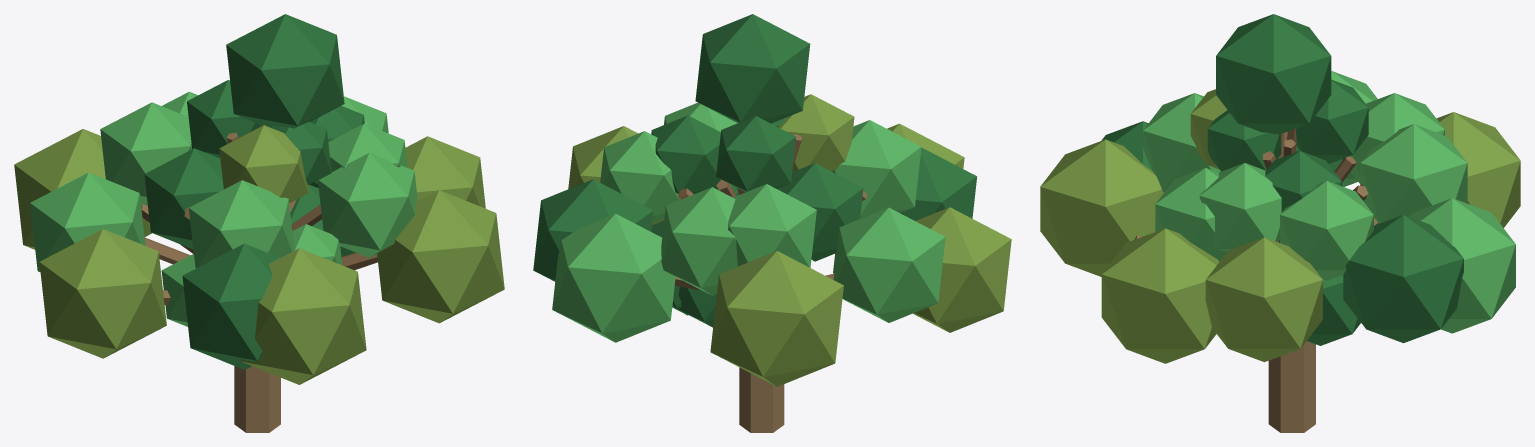
Rendered from Tree_10.glb.
3 views of the same model, side by side, from view 1: azimuth 30°, elevation 25°; view 2: azimuth 150°, elevation 25°; view 3: azimuth 270°, elevation 25° (orthographic). The views are drawn at different scales.
Visible parts, largest first — view 1: T10_Sphere_08, T10_Sphere_05, T10_Sphere_09, T10_Sphere_03, T10_Sphere_13, T10_Sphere_14, T10_Sphere_12, T10_Sphere_18, T10_Sphere_20, T10_Sphere_17, T10_Sphere_07, T10_Sphere_23 (+11 smaller); view 2: T10_Sphere_07, T10_Sphere_11, T10_Sphere_03, T10_Sphere_12, T10_Sphere_08, T10_Sphere_16, T10_Sphere_18, T10_Sphere_20, T10_Sphere_06, T10_Sphere_22, T10_Sphere_15, T10_Sphere_17 (+8 smaller); view 3: T10_Sphere_05, T10_Sphere_09, T10_Sphere_06, T10_Sphere_10, T10_Sphere_03, T10_Sphere_16, T10_Sphere_11, T10_Sphere_15, T10_Sphere_07, T10_Sphere_19, T10_Sphere_22, T10_Sphere_18 (+9 smaller).
Part boxes in pixels (x1=…): T10_Sphere_08: x1=39, y1=229, x2=166, y2=358; T10_Sphere_05: x1=377, y1=190, x2=504, y2=323; T10_Sphere_09: x1=240, y1=248, x2=366, y2=384; T10_Sphere_03: x1=226, y1=14, x2=344, y2=128; T10_Sphere_13: x1=182, y1=243, x2=279, y2=369; T10_Sphere_14: x1=318, y1=153, x2=417, y2=257; T10_Sphere_12: x1=30, y1=172, x2=145, y2=272; T10_Sphere_18: x1=189, y1=180, x2=294, y2=268; T10_Sphere_20: x1=100, y1=102, x2=191, y2=205; T10_Sphere_17: x1=144, y1=148, x2=223, y2=249; T10_Sphere_07: x1=14, y1=129, x2=151, y2=249; T10_Sphere_23: x1=219, y1=125, x2=308, y2=202; T10_Sphere_07: x1=710, y1=251, x2=843, y2=386; T10_Sphere_11: x1=552, y1=213, x2=675, y2=342; T10_Sphere_03: x1=695, y1=14, x2=810, y2=123; T10_Sphere_12: x1=833, y1=207, x2=945, y2=322; T10_Sphere_08: x1=913, y1=207, x2=1011, y2=332; T10_Sphere_16: x1=661, y1=187, x2=737, y2=295; T10_Sphere_18: x1=832, y1=120, x2=921, y2=218; T10_Sphere_20: x1=728, y1=184, x2=816, y2=267; T10_Sphere_06: x1=533, y1=179, x2=653, y2=281; T10_Sphere_22: x1=716, y1=116, x2=795, y2=191; T10_Sphere_15: x1=600, y1=131, x2=679, y2=223; T10_Sphere_17: x1=777, y1=163, x2=863, y2=261; T10_Sphere_05: x1=1101, y1=228, x2=1218, y2=363; T10_Sphere_09: x1=1040, y1=139, x2=1163, y2=276; T10_Sphere_06: x1=1343, y1=215, x2=1463, y2=343; T10_Sphere_10: x1=1205, y1=237, x2=1322, y2=362; T10_Sphere_03: x1=1216, y1=14, x2=1331, y2=134; T10_Sphere_16: x1=1360, y1=124, x2=1467, y2=223; T10_Sphere_11: x1=1410, y1=198, x2=1515, y2=333; T10_Sphere_15: x1=1280, y1=181, x2=1373, y2=280; T10_Sphere_07: x1=1436, y1=112, x2=1520, y2=227; T10_Sphere_19: x1=1199, y1=163, x2=1281, y2=251; T10_Sphere_22: x1=1295, y1=79, x2=1368, y2=163; T10_Sphere_18: x1=1143, y1=93, x2=1220, y2=192.
Size of the model in its own units: 2.61 by 2.35 by 2.44.
